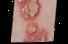plaque psoriasis: (21, 21, 48, 43), (13, 0, 39, 21)
